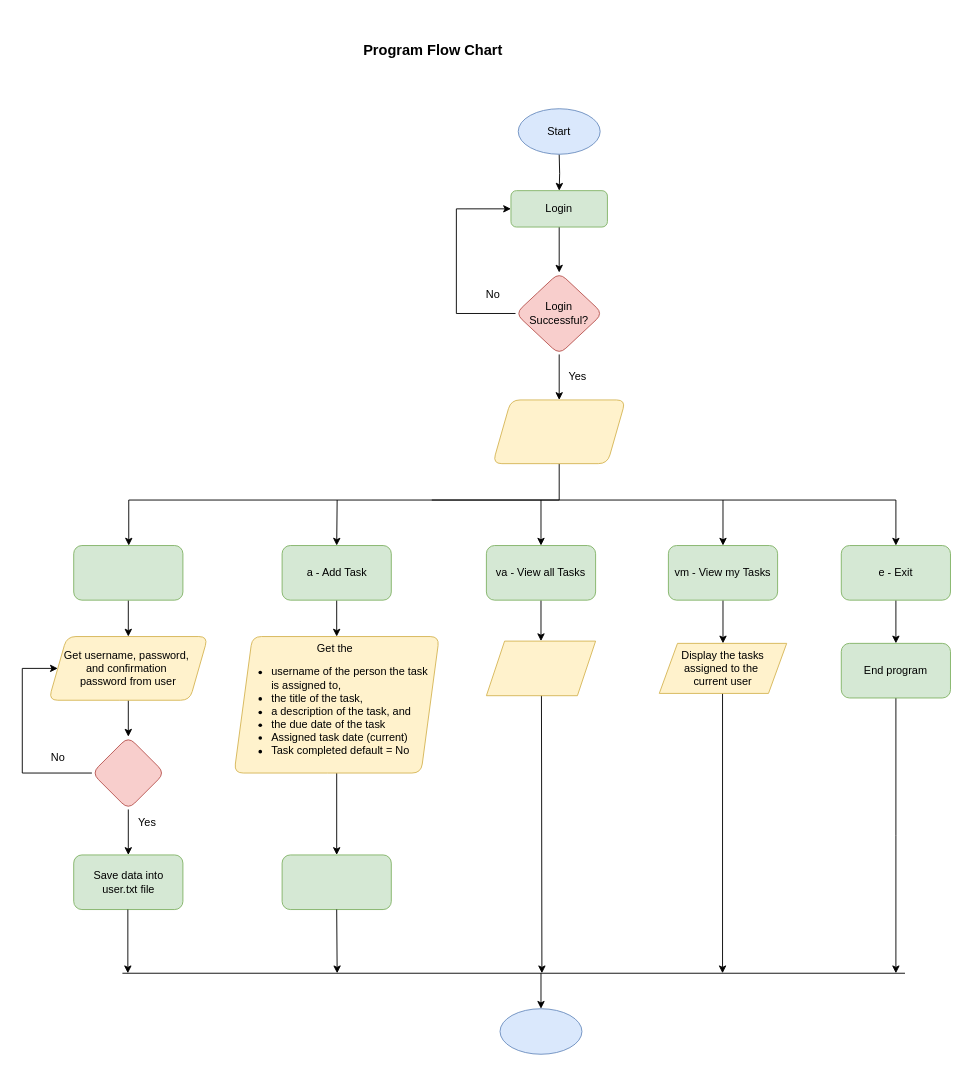
This 966x1070 diagram has some shape labels left out. Here are the shapes that lost their labels. From the top down, the centre of each, then its label:
At pixel 559 431: "Display Menu, and prompt user to select an option".
At pixel 128 572: "r - Register User".
At pixel 540 668: "Display all tasks".
At pixel 128 772: "All details valid?".
At pixel 336 882: "Save data into tasks.txt".
At pixel 540 1031: "Stop".
